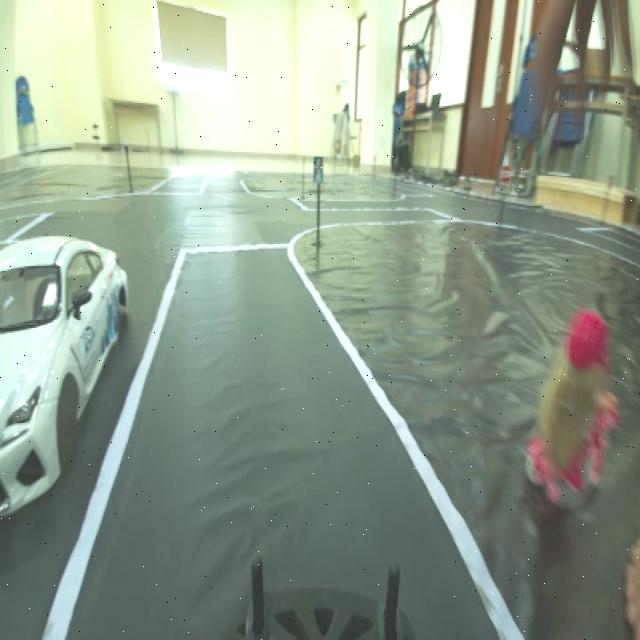car: (2, 139, 134, 518)
